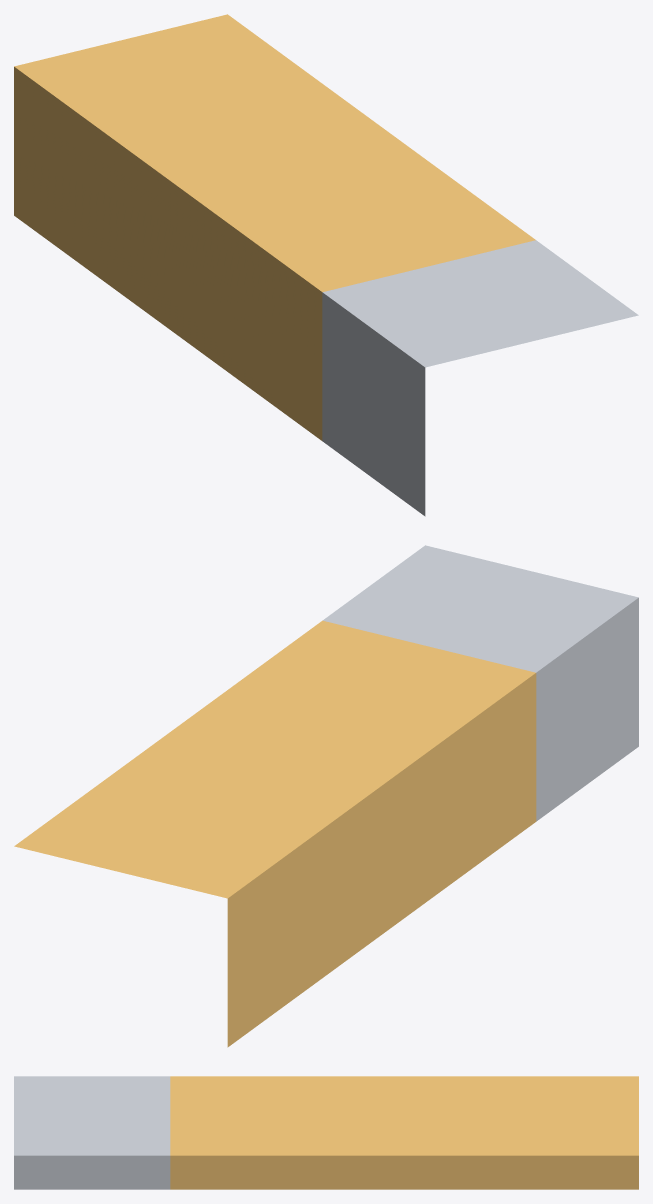
3 views of the same model, one above another, from view 1: azimuth 30°, elevation 25°; view 2: azimuth 150°, elevation 25°; view 3: azimuth 270°, elevation 25° (orthographic). The views are drawn at different scales.
Size of the model in its own units: 0.3 by 0.2 by 1.
